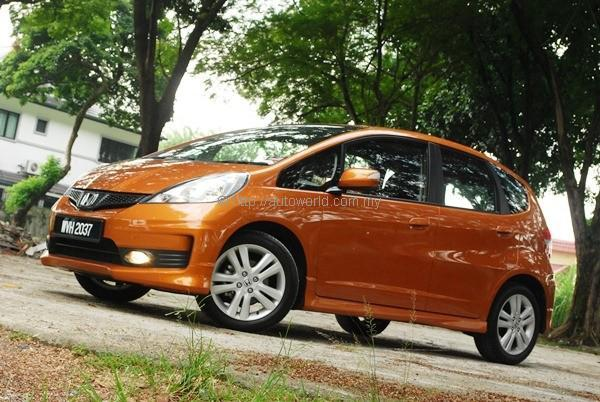Hatchback: (25, 112, 574, 378)
